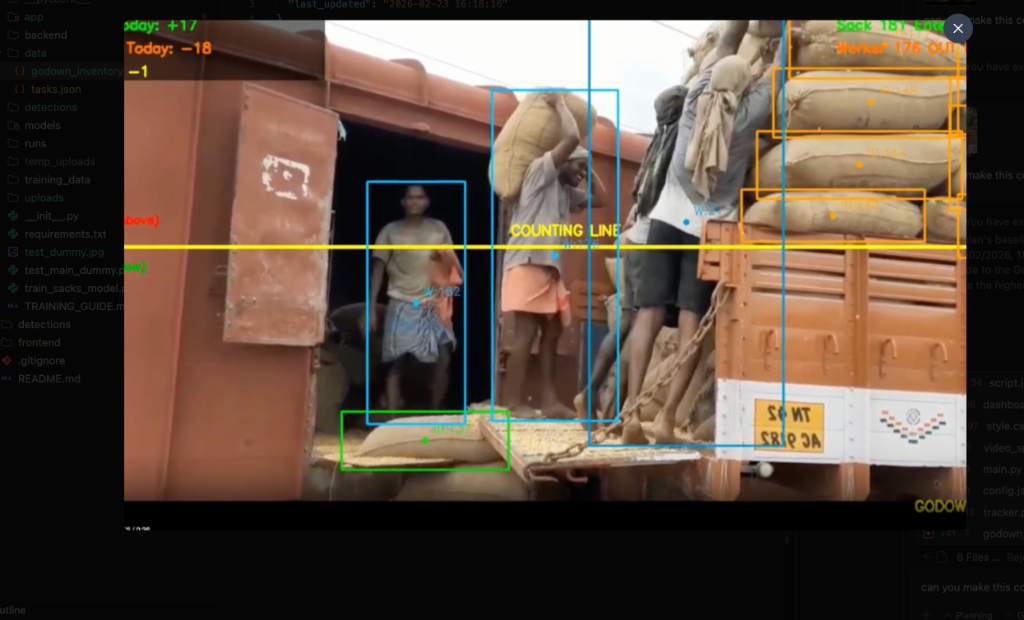sack: (706, 251, 965, 389), (745, 128, 959, 194), (747, 68, 964, 133), (741, 185, 933, 243)
